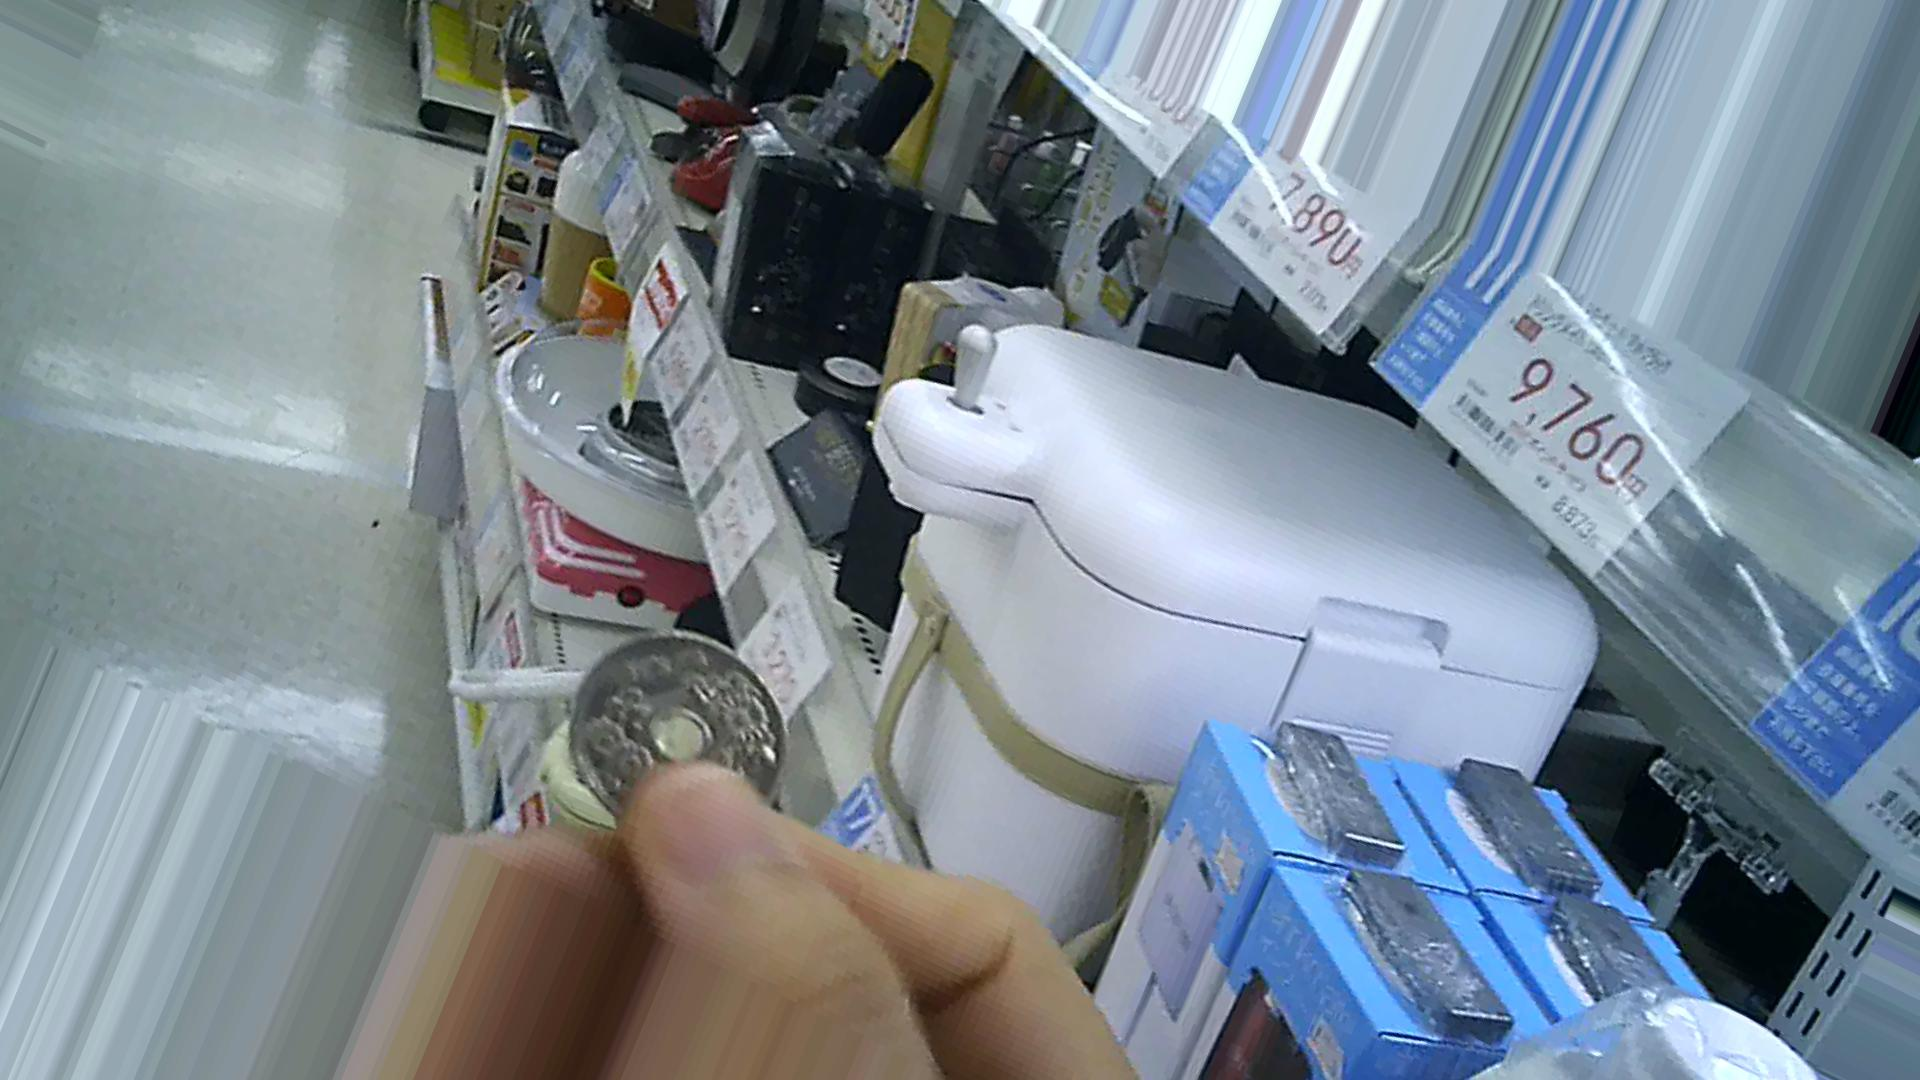50 Yen: (571, 625, 787, 840)
